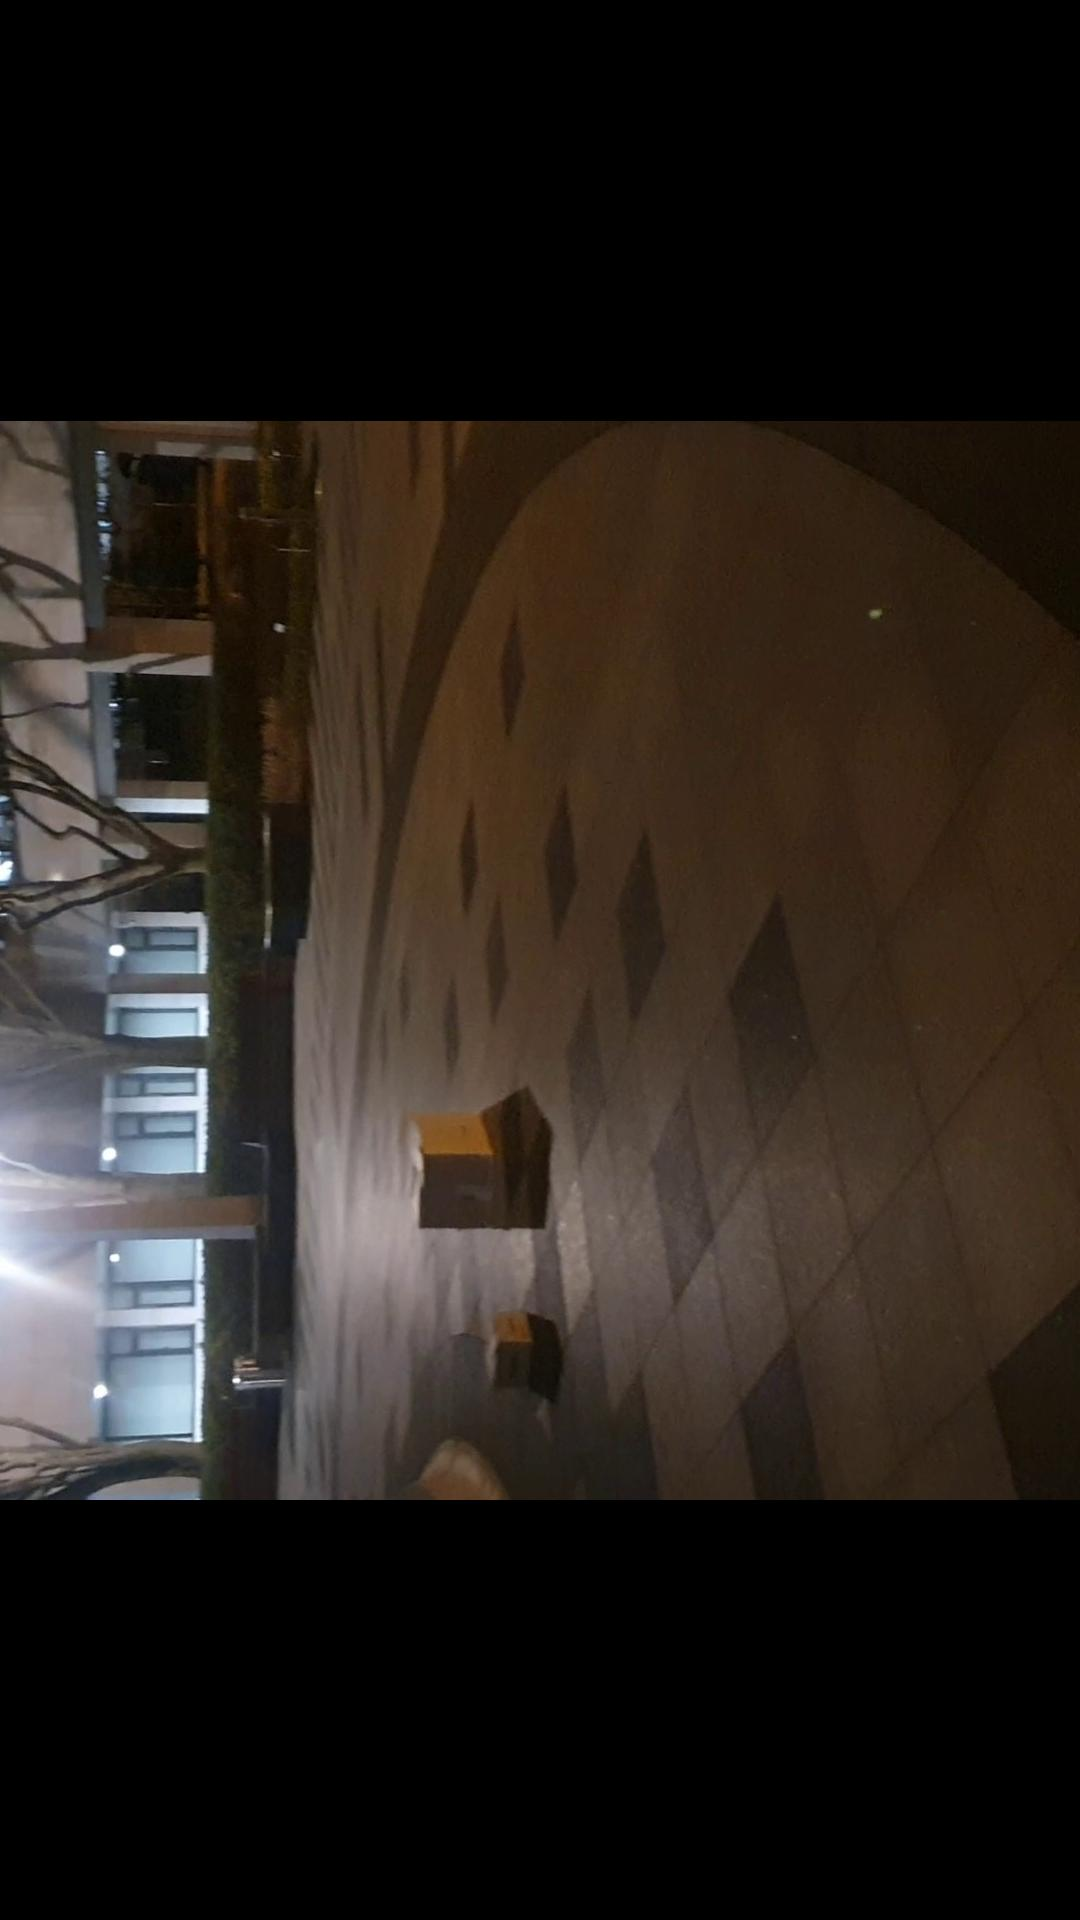Box: (393, 1110, 508, 1240), (477, 1300, 545, 1394)
